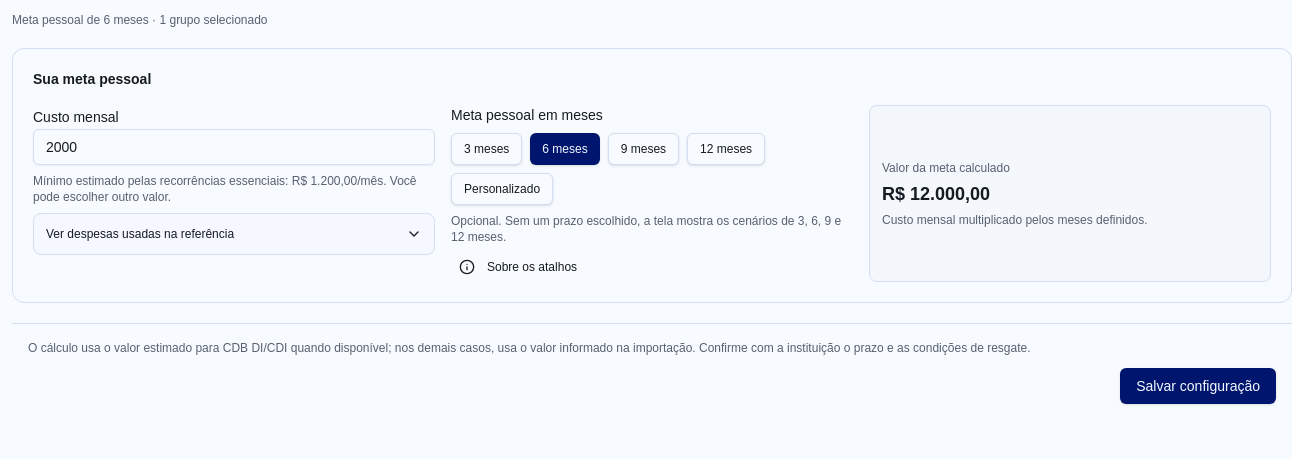
Test: EmergencyReserveEditor › reveals each essential recurrence source in the monthly reference
Expected: the text "Mínimo estimado pelas recorrências essenciais" is shown, x1=33 y1=174 x2=416 y2=204
Click the button "Ver despesas usadas na referência" at point(234, 234), box x1=46 y1=226 x2=422 y2=242
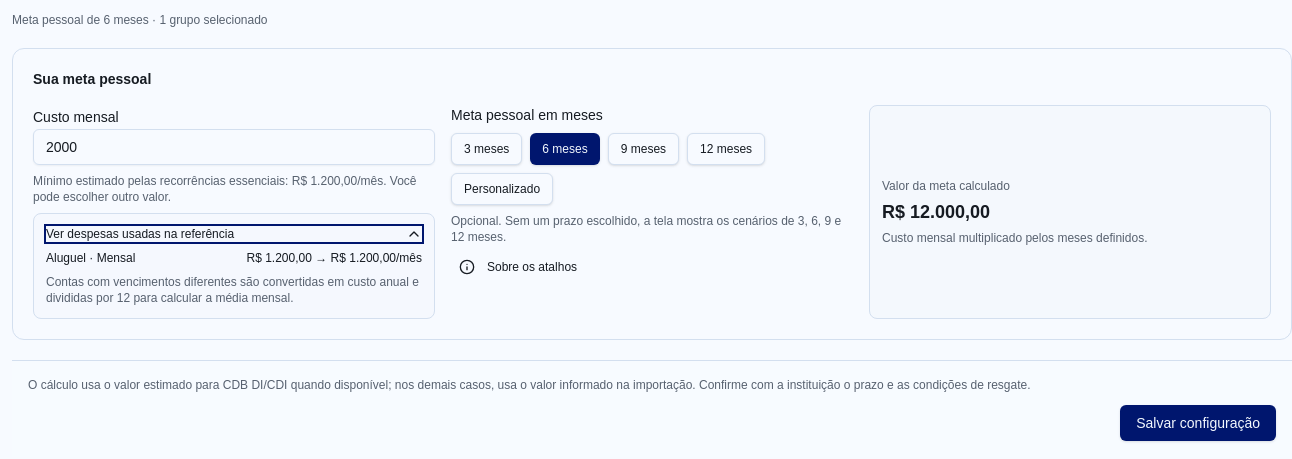
Now the text "Aluguel · Mensal" is shown, box x1=46 y1=250 x2=135 y2=266
Now the text "R$ 1.200,00 → R$ 1.200,00/mês" is shown, box x1=246 y1=250 x2=422 y2=266
